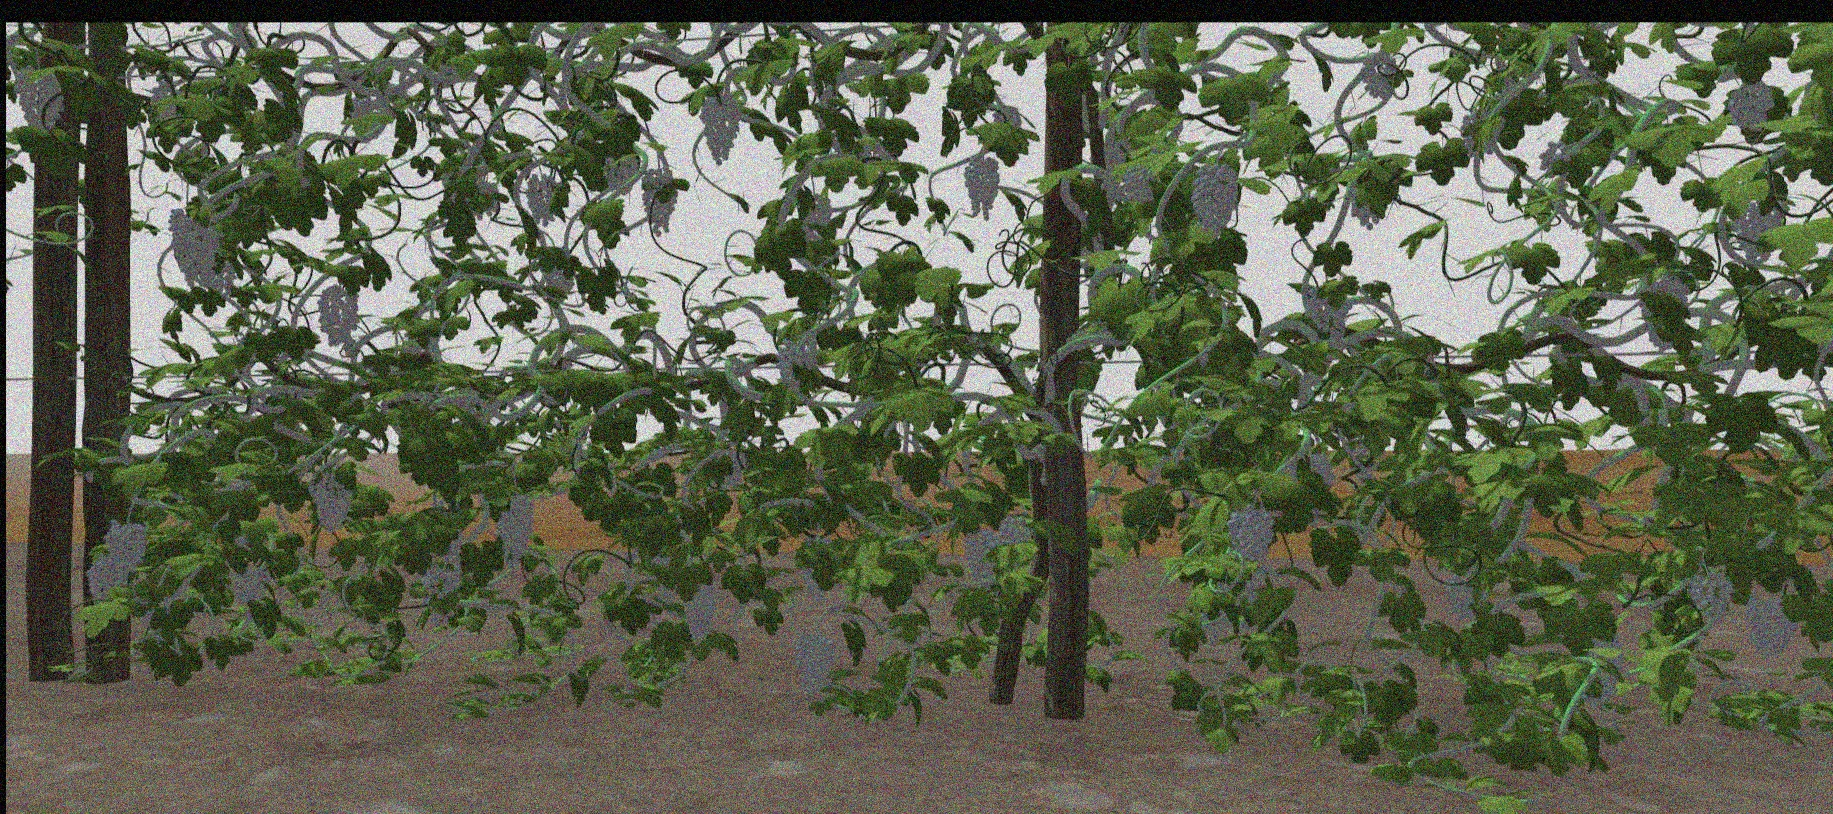grape: (166, 206, 219, 285), (1745, 589, 1797, 660), (1225, 509, 1275, 580), (1192, 158, 1239, 229), (16, 65, 64, 134), (700, 90, 742, 165), (310, 467, 354, 533), (795, 632, 837, 701), (497, 490, 537, 563), (317, 282, 360, 346), (641, 167, 679, 236), (962, 154, 1003, 219), (1686, 571, 1738, 620), (683, 581, 719, 644), (1727, 80, 1775, 126), (104, 520, 147, 571), (775, 342, 814, 392), (229, 554, 268, 603), (527, 175, 563, 226), (87, 563, 127, 603), (962, 532, 996, 577), (1122, 163, 1155, 203), (424, 565, 461, 599), (997, 516, 1031, 545)
